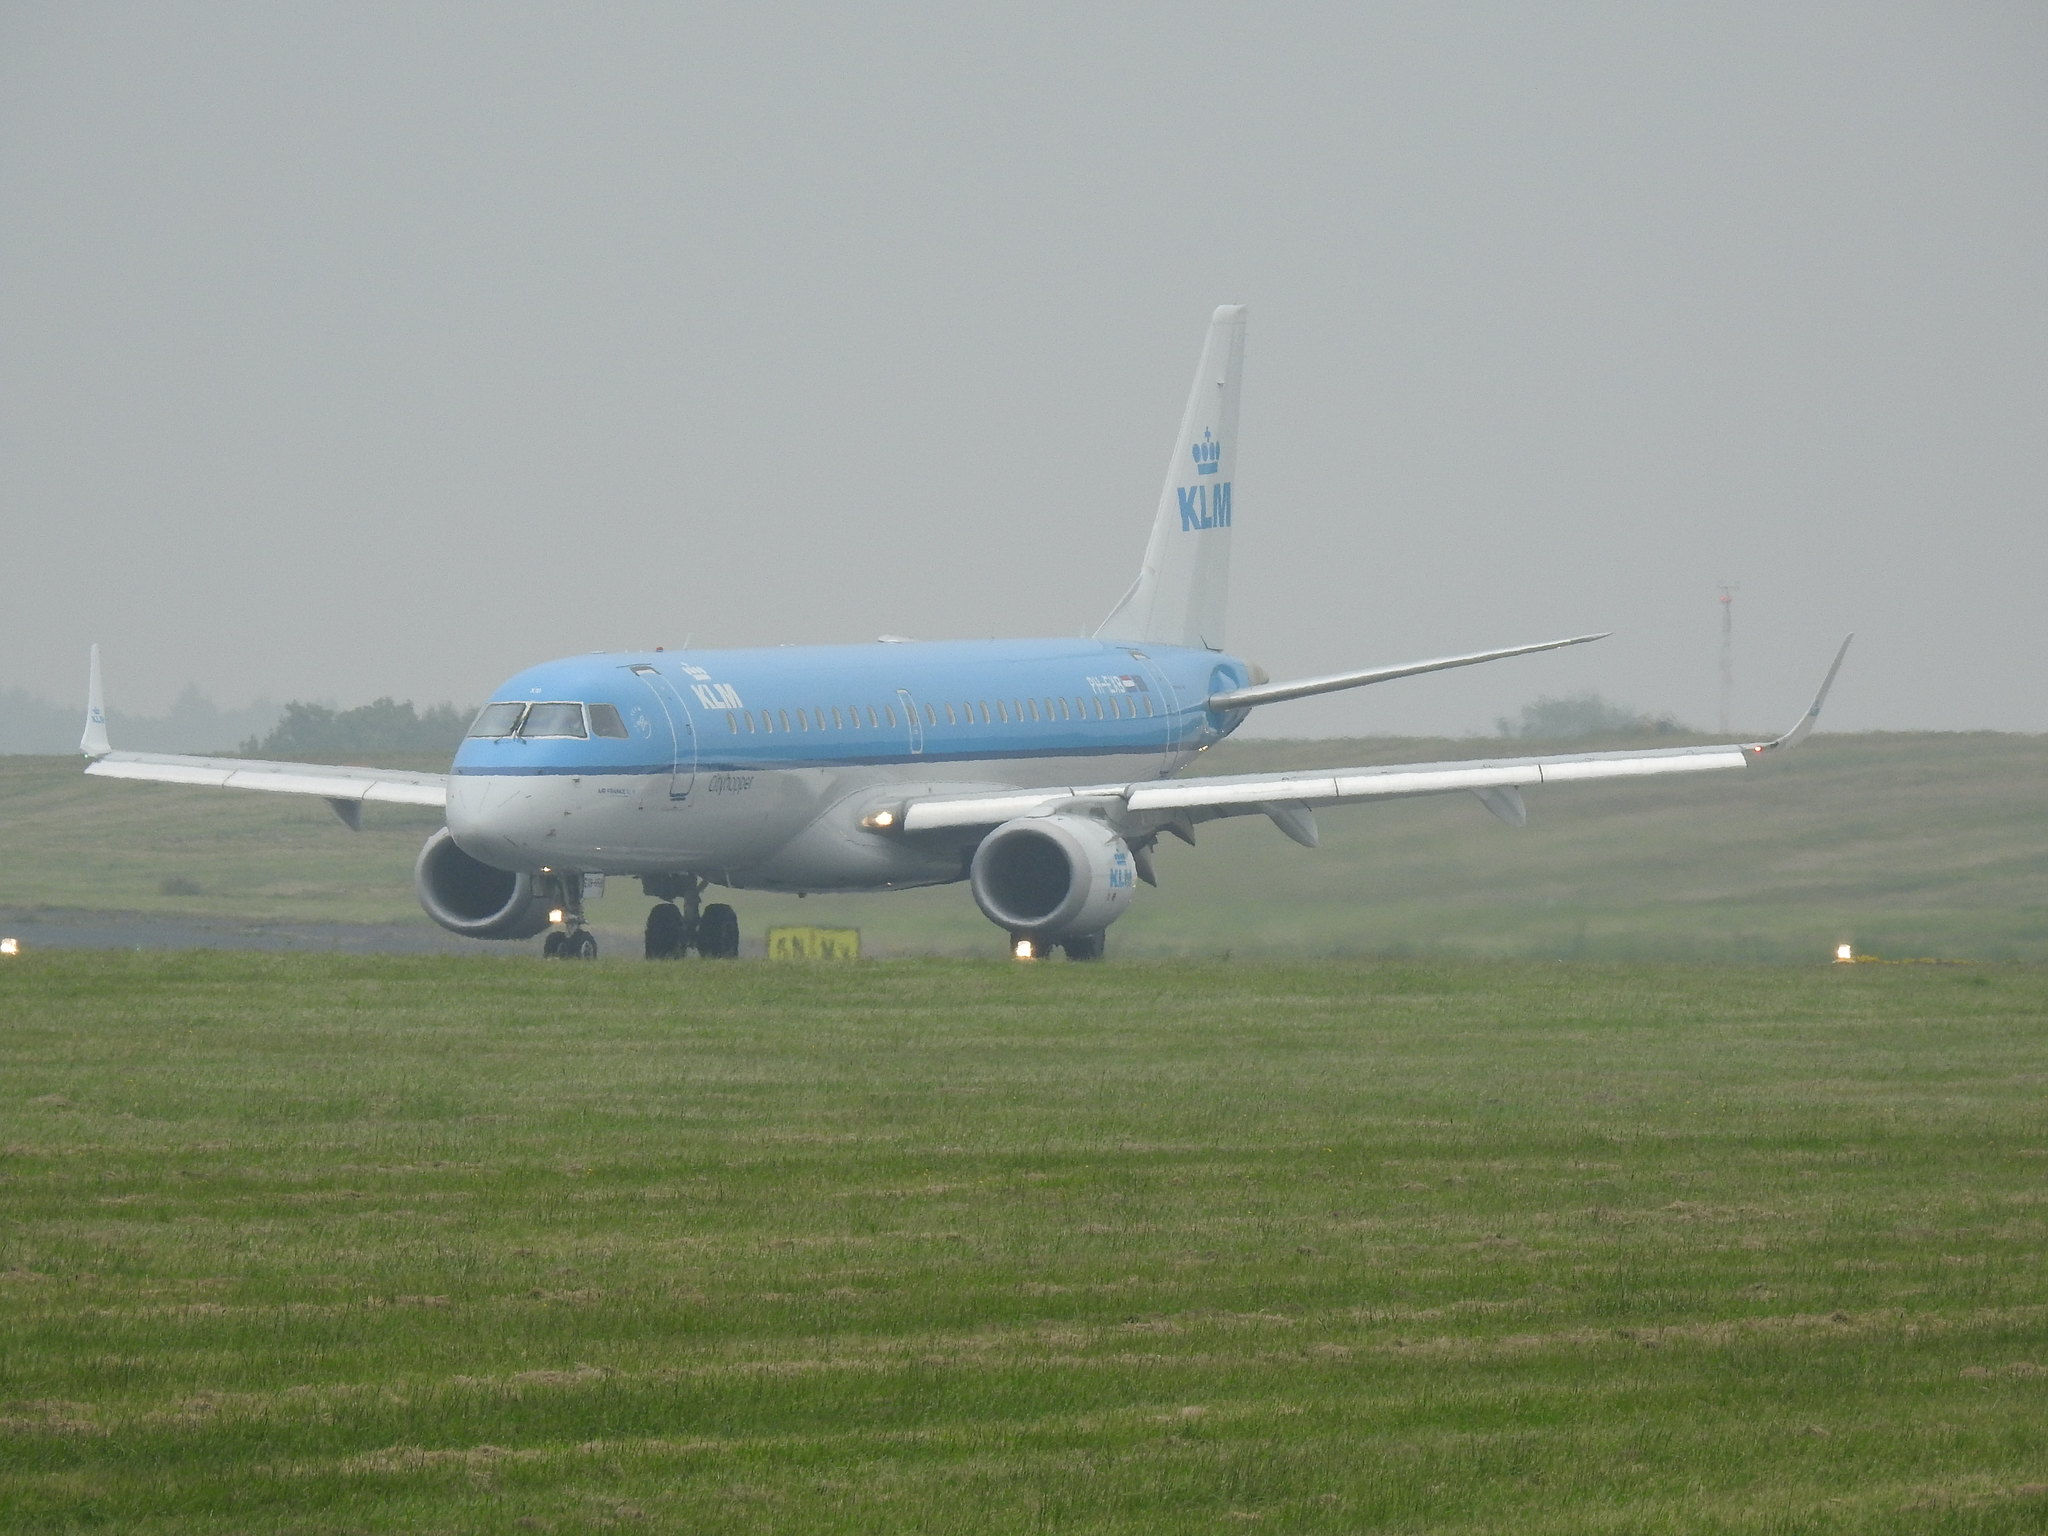aeroplane: (85, 303, 1867, 962)
